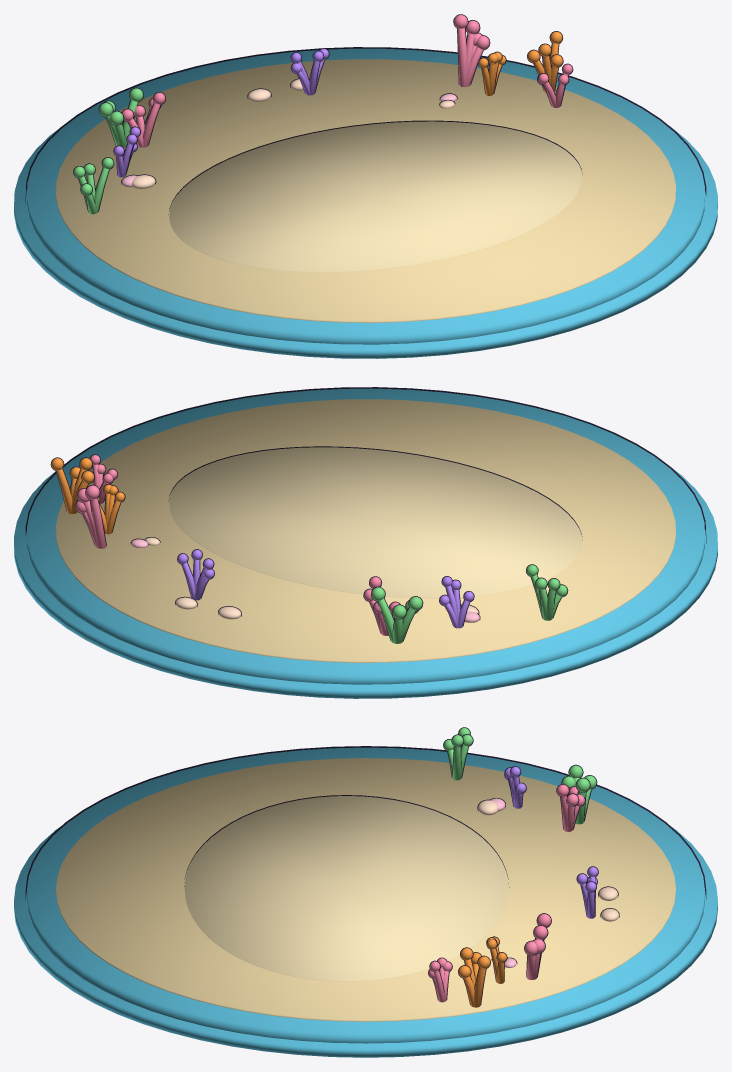
File: lagoon.glb
The picture shows the model from 3 angles, top to bottom: view 1: azimuth 30°, elevation 25°; view 2: azimuth 150°, elevation 25°; view 3: azimuth 270°, elevation 25°; orthographic projection.
Visible parts, largest first — view 1: ground, floor, skirt, sea; view 2: ground, floor, skirt, sea, coral.032; view 3: ground, floor, skirt, sea.
Boxes of the visible parts, x1,y1,x2,y2 form: ground: (56,59,675,322); floor: (168,120,582,272); skirt: (25,47,706,344); sea: (14,126,717,358); ground: (56,399,675,662); floor: (168,446,582,598); skirt: (25,387,706,684); sea: (14,469,717,698); coral.032: (89,498,106,548); ground: (56,758,675,1021); floor: (184,795,509,981); skirt: (25,746,706,1043); sea: (14,826,717,1057).
Size of the model in its own units: 21.8 by 2.9 by 21.8.
